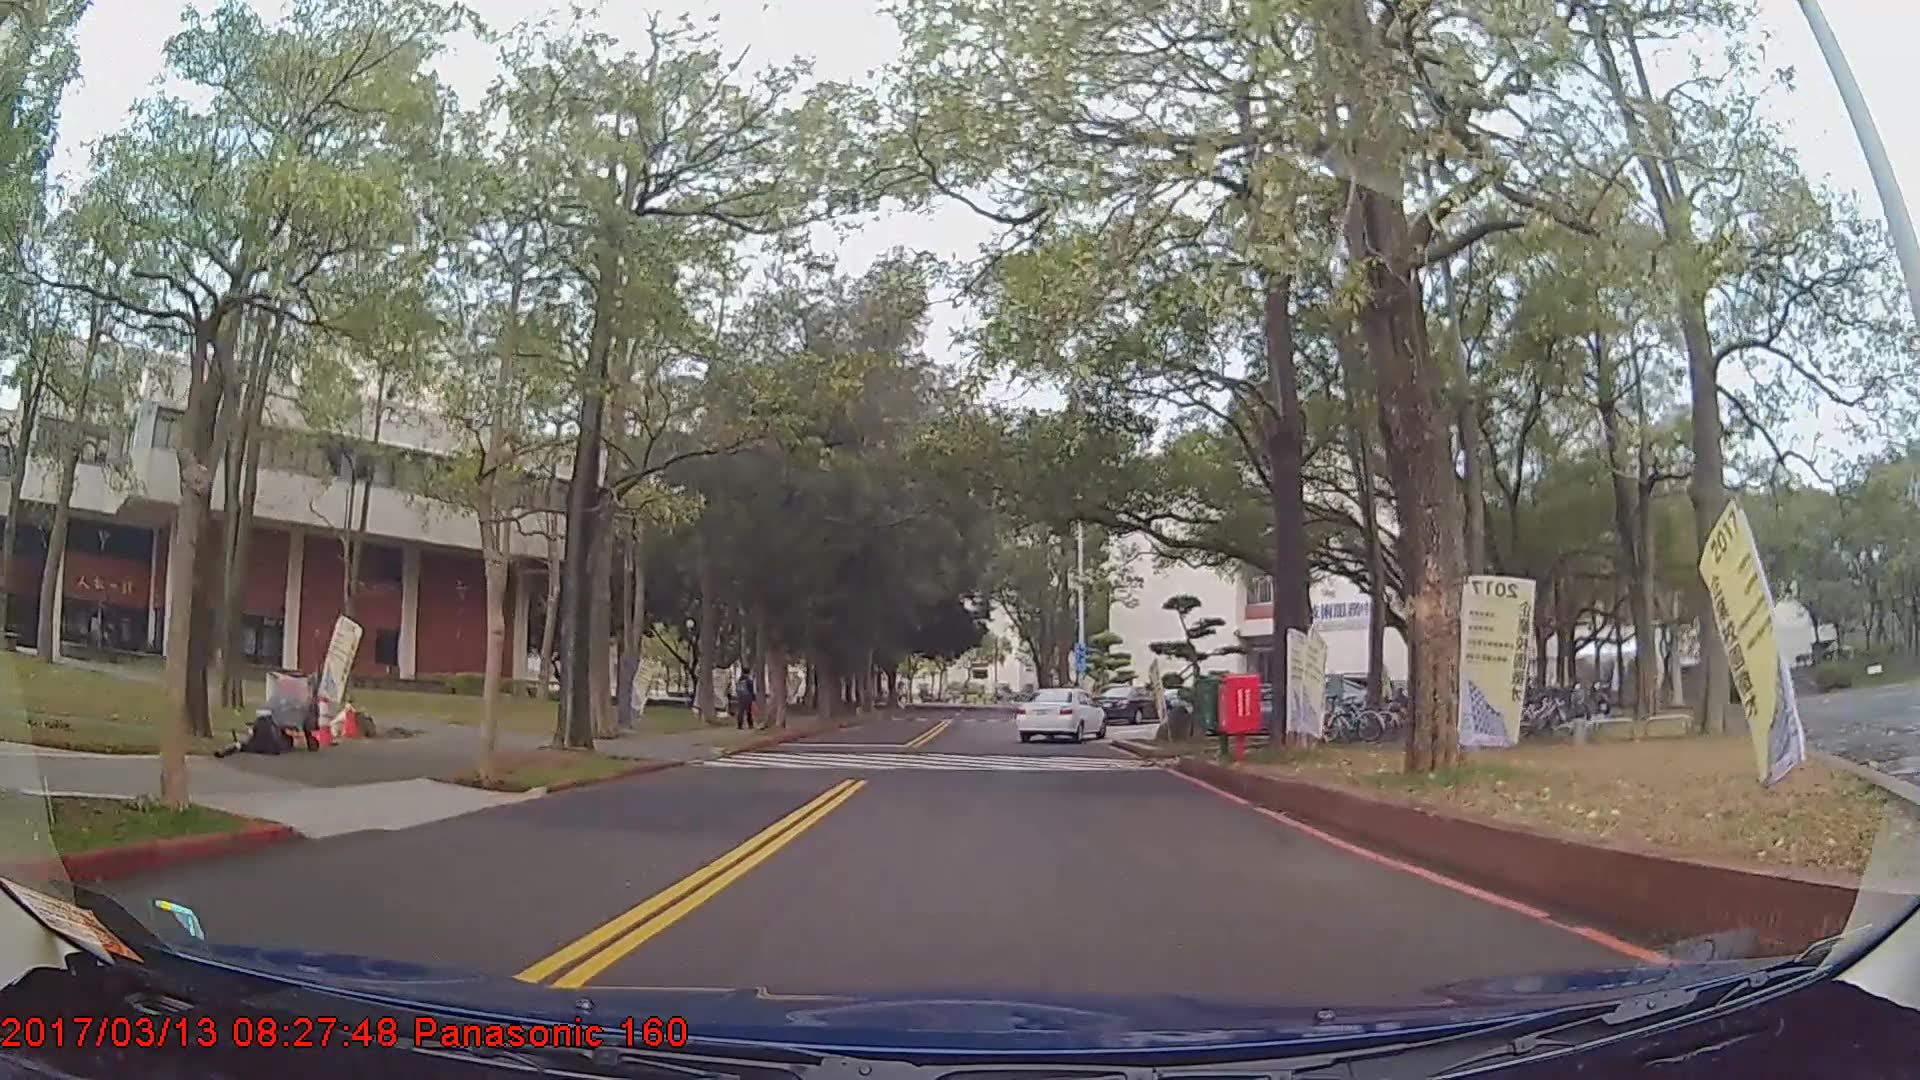pedestrian: (735, 668, 759, 730)
vehicle: (1015, 685, 1106, 744), (1094, 681, 1173, 723)
